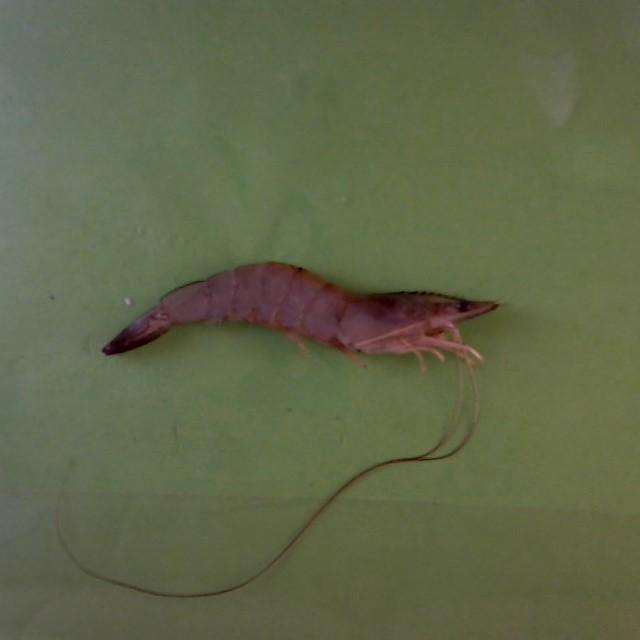shrimp: (102, 262, 499, 355)
